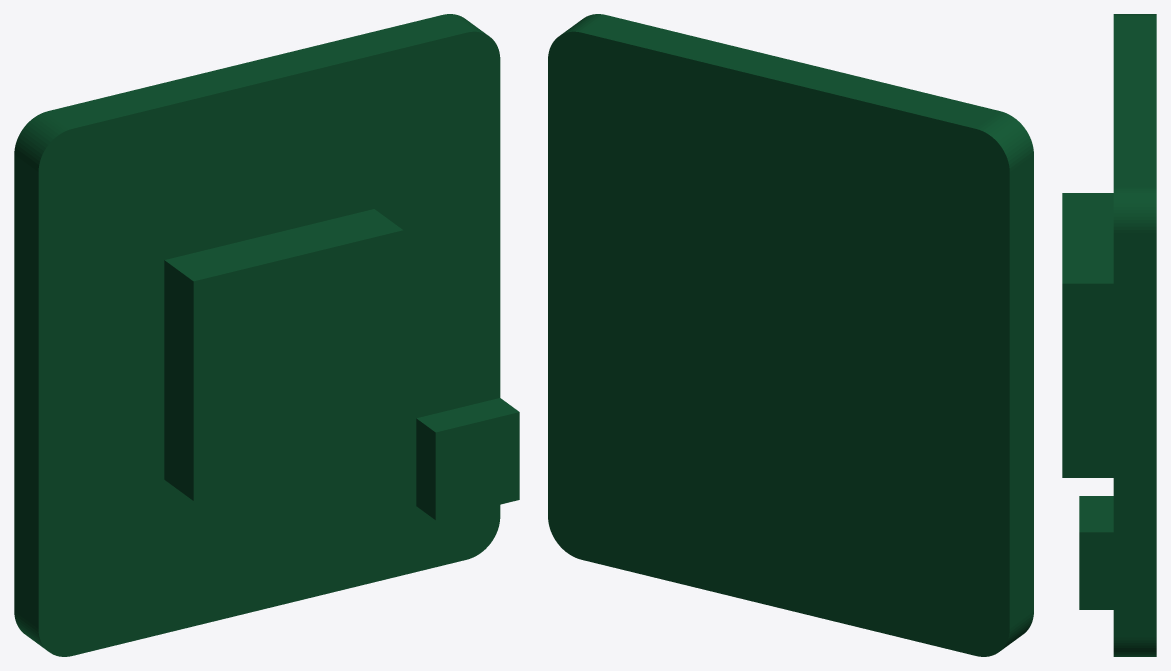
File: rx_pcb.glb
3 views of the same model, side by side, from view 1: azimuth 30°, elevation 25°; view 2: azimuth 150°, elevation 25°; view 3: azimuth 270°, elevation 25° (orthographic). The views are drawn at different scales.
Parts seen in each view (by area): view 1: rx_pcb; view 2: rx_pcb; view 3: rx_pcb.
Part boxes in pixels (x1=…): rx_pcb: x1=14, y1=14, x2=519, y2=656; rx_pcb: x1=548, y1=14, x2=1033, y2=656; rx_pcb: x1=1062, y1=14, x2=1156, y2=656.
Bounding box in the file's own units: 0.011 × 0.012 × 0.0022.
